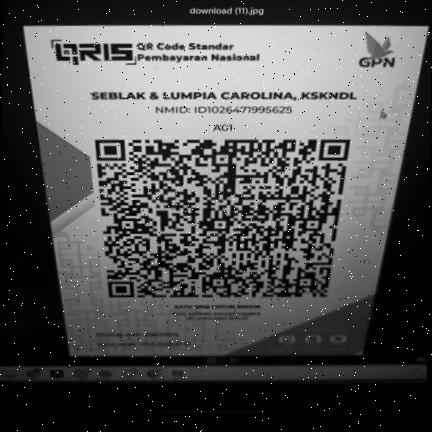Cara Pakai QRIS: (261, 325, 362, 353)
Cek Aplikasi Penyelenggara: (169, 310, 266, 321)
Dicetak Oleh: (90, 329, 183, 338)
Logo GPN: (350, 29, 404, 72)
Logo dan deskripsi QRIS: (39, 35, 277, 69)
Nama Merchant: (83, 88, 361, 102)
National Merchant ID: (151, 104, 296, 116)
QR Code: (87, 134, 357, 300)
Slogan: (170, 302, 266, 309)
Terminal ID: (208, 121, 239, 132)
Versi Cetak: (91, 339, 196, 348)
